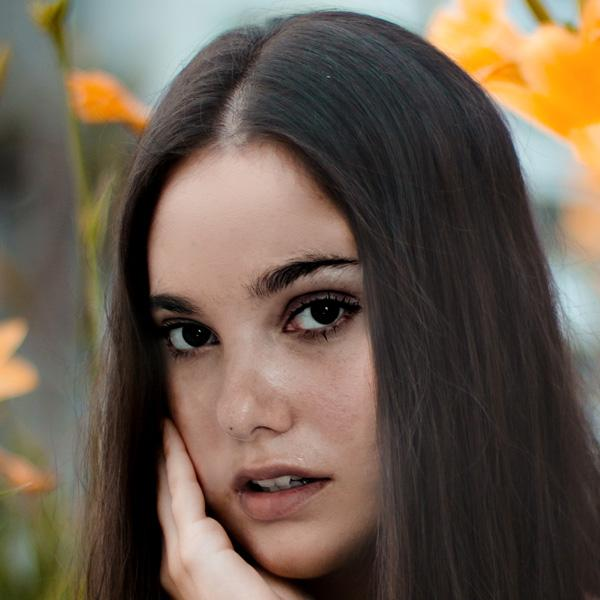Eyes: (268, 284, 371, 349), (153, 310, 229, 367)
